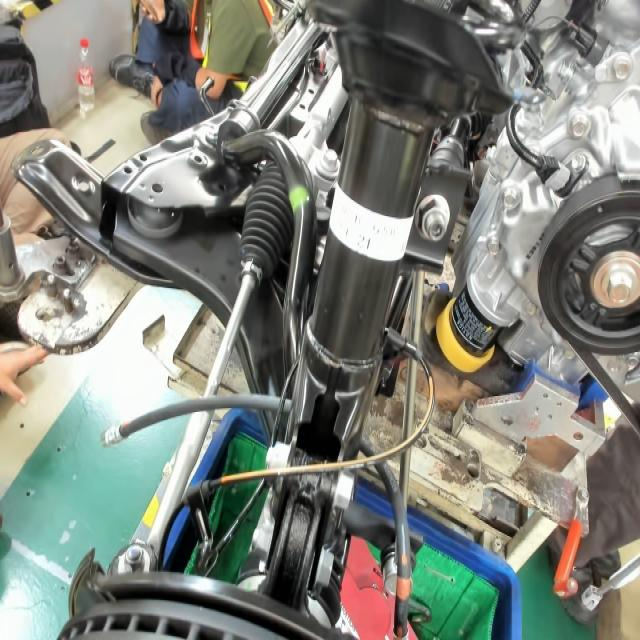Absorber RH-21: (355, 231, 373, 254)
Bar Stabilizer-HJ: (282, 183, 313, 214)
